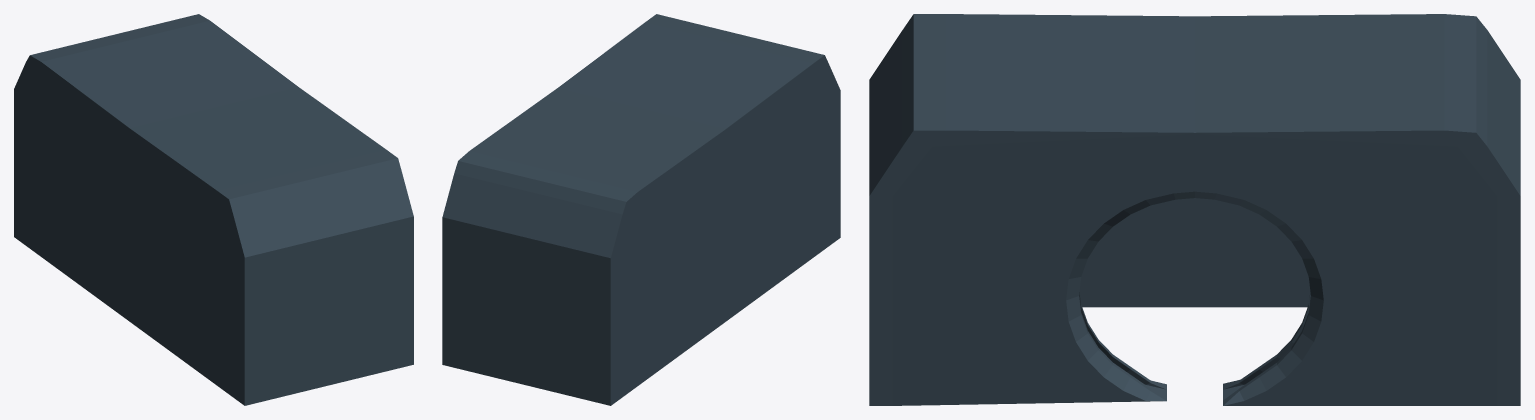
The model's file is cockpit_back.fbx.
3 renders of one model, left to right at view 1: azimuth 30°, elevation 25°; view 2: azimuth 150°, elevation 25°; view 3: azimuth 270°, elevation 25°, orthographic. The views are drawn at different scales.
Parts seen in each view (by area): view 1: back; view 2: back; view 3: back.
Part boxes in pixels (left/top/right/bottom): back: left=14, top=14, right=413, bottom=405; back: left=442, top=14, right=840, bottom=405; back: left=869, top=14, right=1520, bottom=405.
Bounding box in the file's own units: 251 × 276 × 592.
